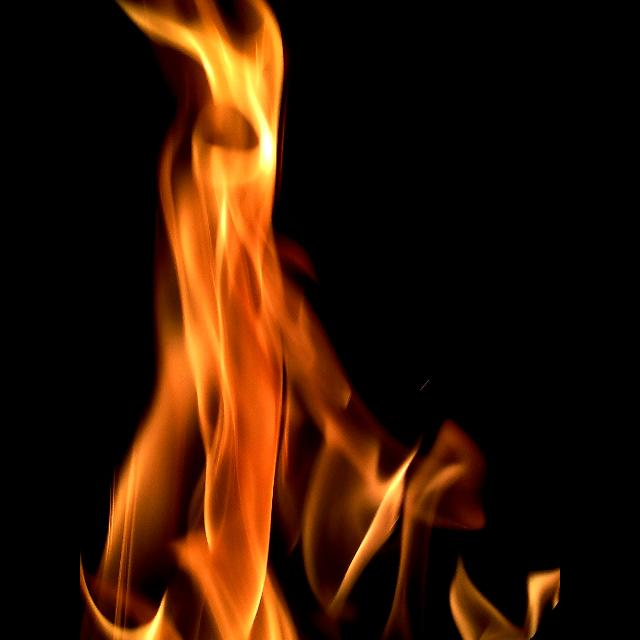fire: (80, 0, 485, 640)
